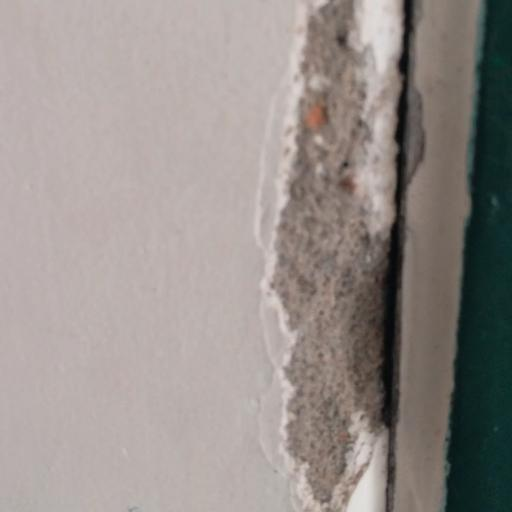spalling: (274, 3, 421, 499)
